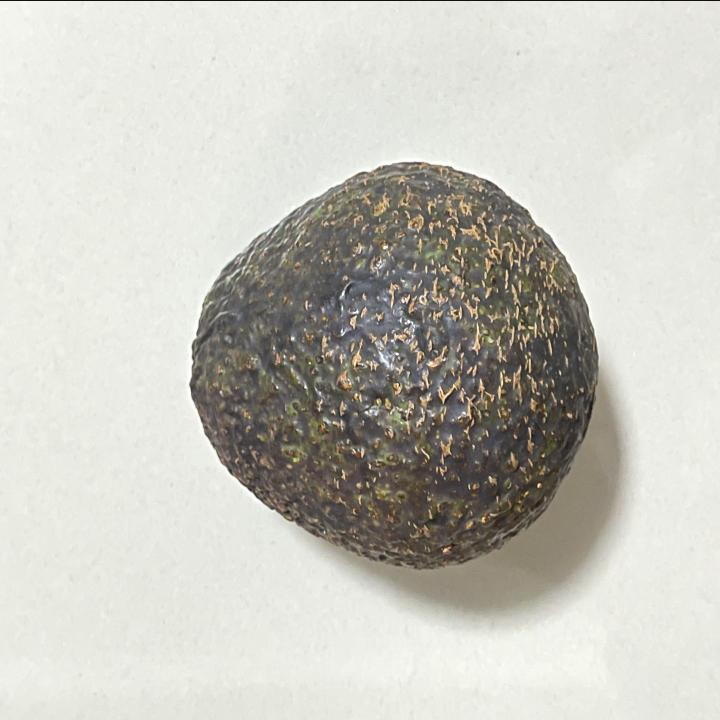Level2: (183, 150, 606, 579)
